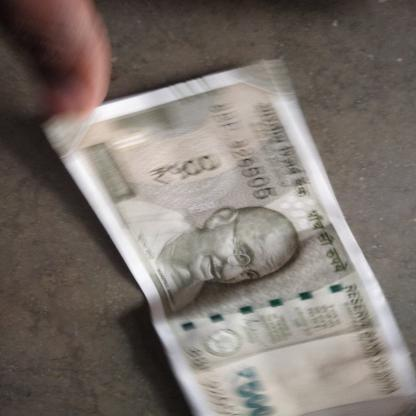New500Front: (89, 66, 415, 415)
